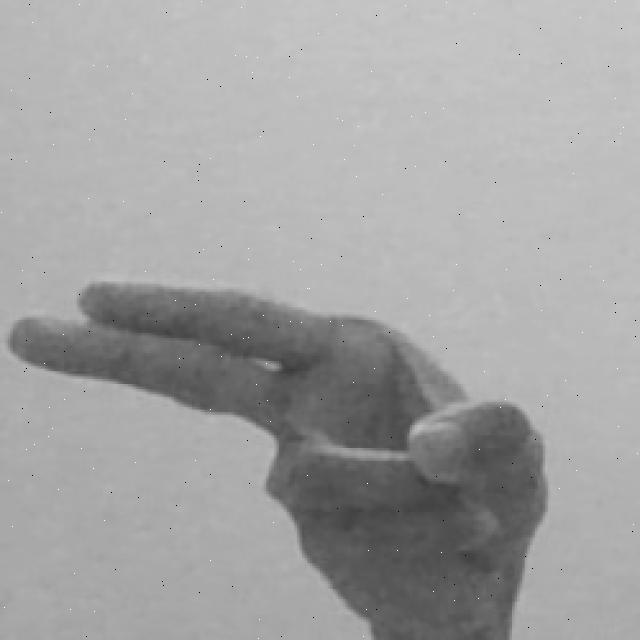H: (0, 271, 553, 640)
